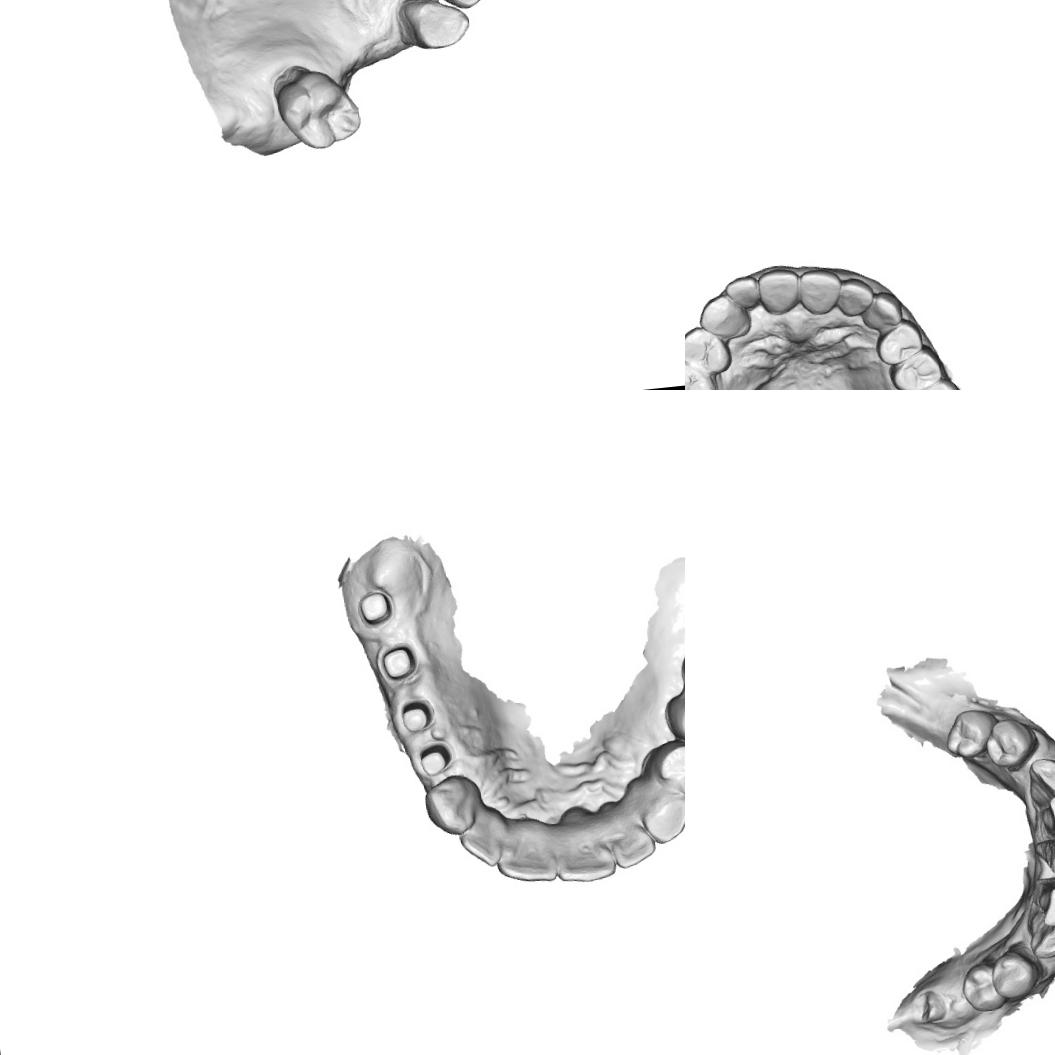abutment: (375, 638, 421, 684), (396, 694, 437, 740), (355, 586, 396, 630), (414, 740, 455, 780)
canine: (422, 771, 484, 840), (399, 0, 473, 54), (632, 782, 685, 849), (696, 290, 753, 342), (858, 288, 905, 333), (1024, 902, 1055, 961), (1025, 754, 1055, 807)
incisor: (550, 812, 619, 888), (490, 820, 562, 889), (600, 809, 660, 873), (454, 807, 506, 871), (798, 265, 846, 317), (756, 266, 802, 318), (834, 274, 877, 318), (722, 273, 762, 312), (1031, 873, 1055, 928), (1032, 834, 1055, 881), (418, 0, 497, 13), (1038, 791, 1055, 839)
molar: (272, 64, 364, 154)
premolar: (982, 715, 1042, 774), (988, 943, 1046, 1002), (942, 706, 1002, 760), (886, 340, 945, 390), (958, 960, 1010, 1014), (872, 317, 926, 368), (685, 322, 734, 378), (646, 735, 685, 805), (660, 685, 685, 761), (685, 354, 720, 390)
